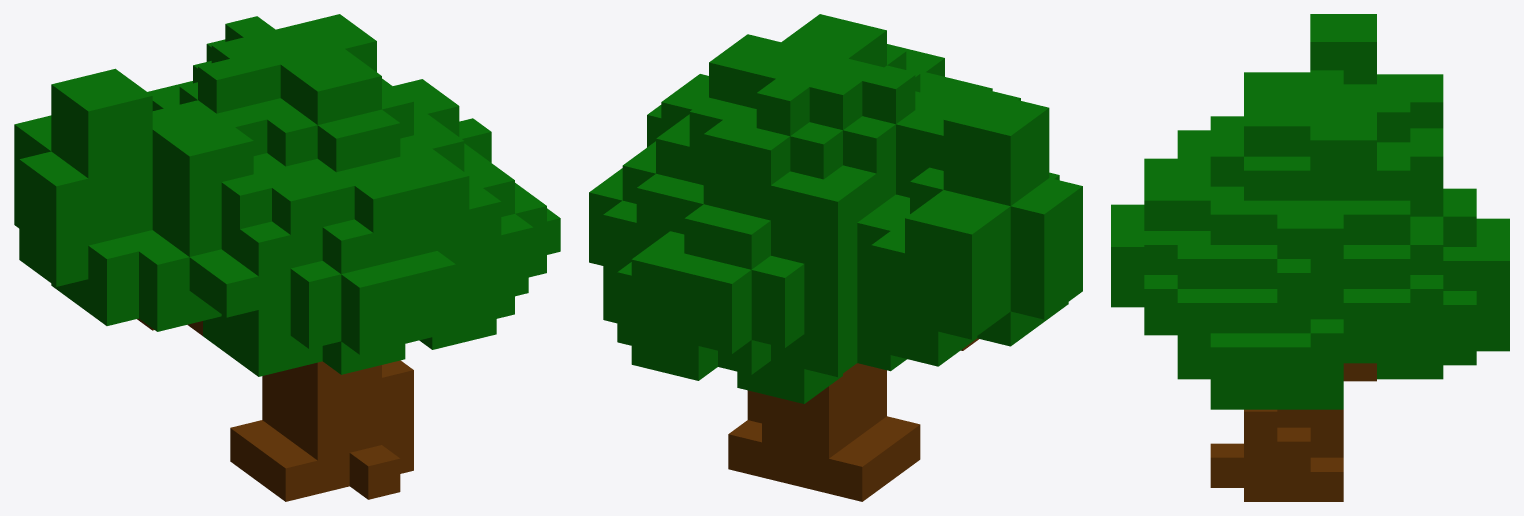
Rendered from bush02.obj.
3 renders of one model, left to right at view 1: azimuth 30°, elevation 25°; view 2: azimuth 150°, elevation 25°; view 3: azimuth 270°, elevation 25°, orthographic. The views are drawn at different scales.
Size of the model in its own units: 14 by 12 by 12.
Materials: 1 (1 with a texture image).
